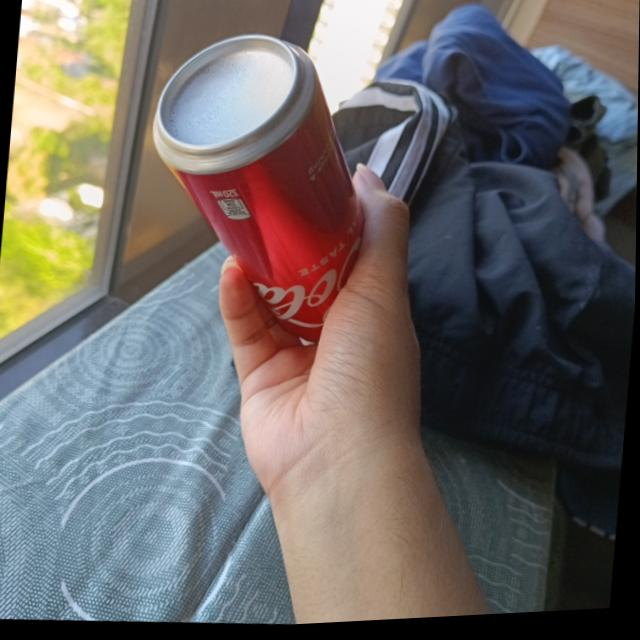coke: (132, 26, 384, 353)
